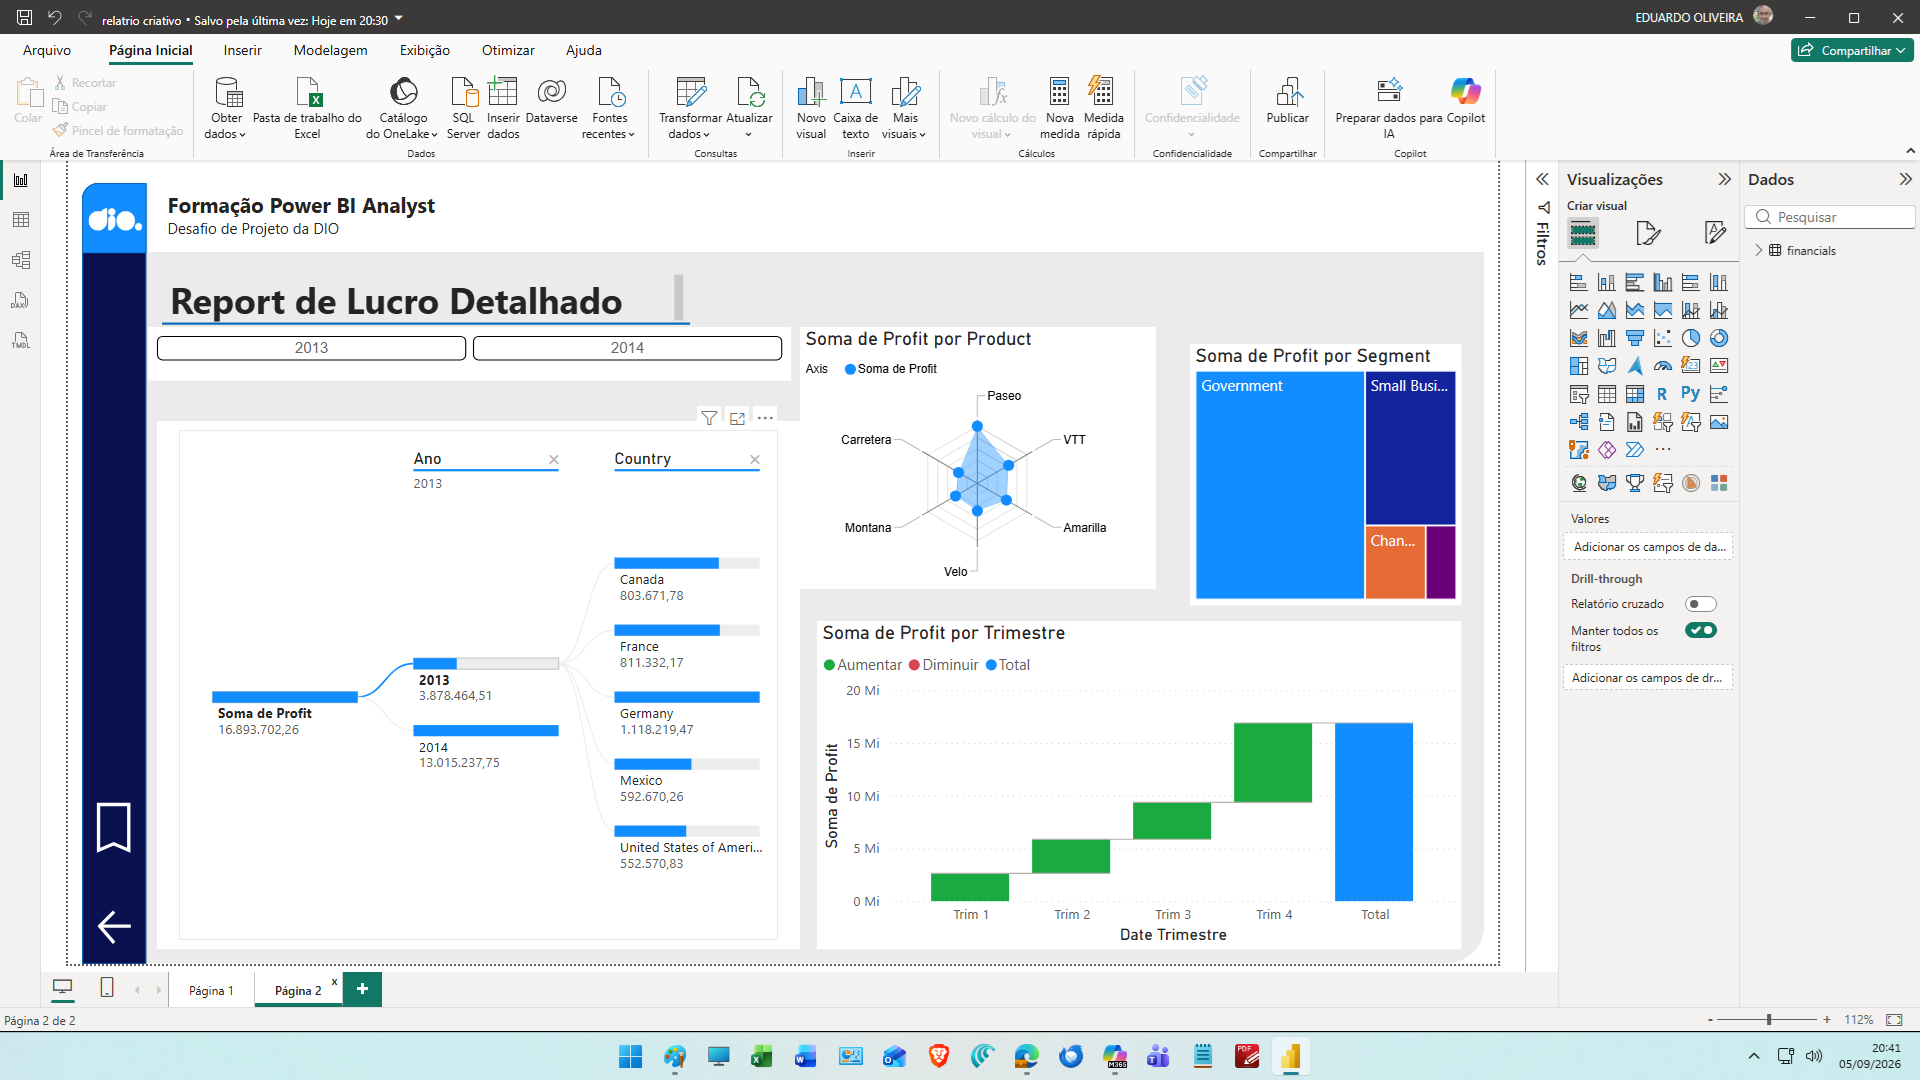

The dashboard page shown, as its layout file describes it:
{"tool":"powerbi","page":{"name":"Página 2","canvas":[1280,720],"ordinal":1},"visuals":[{"type":"shape","box":[42.6,20.7,1225.3,699.3],"z":0},{"type":"shape","box":[83.9,127.8,473,37.1],"z":0,"group":"g1"},{"type":"shape","box":[12.4,20.2,57.7,699.8],"z":1000},{"type":"textbox","box":[85.3,97.6,470.2,52.2],"z":1000,"group":"g1"},{"type":"shape","box":[12.4,20.6,57.7,63.2],"z":2000},{"type":"image","box":[13.7,33,57.7,39.9],"z":3000},{"type":"shape","title":"Fundo do Título","box":[71.5,20.6,1198.9,61.9],"z":4000},{"type":"textbox","title":"Título do report","box":[83.9,22,378.1,63.2],"z":5000},{"type":"shape","box":[79.7,233.7,576.1,473],"z":6000},{"type":"decompositionTreeVisual","fields":{"Analyze":["Sum(financials.Profit)"],"ExplainBy":["financials.Date.Variation.Hierarquia de datas.Ano","financials.Country"]},"box":[99.8,242.2,536.3,456.5],"z":7000},{"type":"waterfallChart","fields":{"Category":["financials.Date.Variation.Hierarquia de datas.Trimestre"],"Y":["Sum(financials.Profit)"]},"box":[670.9,412.5,577.4,294.2],"z":8000},{"type":"ChicletSlicer1448559807354","fields":{"Category":["financials.Date.Variation.Hierarquia de datas.Ano"]},"box":[71.6,149.6,576.1,48.1],"z":9000},{"type":"RadarChart1446119667547","fields":{"Category":["financials.Product"],"Y":["Sum(financials.Profit)"]},"box":[655.5,149.6,317.6,233.7],"z":10000},{"type":"treemap","fields":{"Group":["financials.Segment"],"Values":["Sum(financials.Profit)"]},"box":[1005,165,243.4,233.7],"z":11000},{"type":"actionButton","box":[22,666.8,48.1,39.9],"z":12000},{"type":"group","id":"g1","title":"Sales report","box":[83.9,97.6,473,67.4],"z":13000},{"type":"actionButton","box":[12.8,545.8,57,105.5],"z":14000}]}

Visuals, with their boxes on the page's 1280x720 design canvas (x1, y1, x2, y2). These are canvas units, not pixel positions in the 1920x1080 screenshot, which may show the page scaled, cropped or inside an application window:
shape: region(43, 21, 1268, 720)
shape: region(84, 128, 557, 165)
shape: region(12, 20, 70, 720)
textbox: region(85, 98, 556, 150)
shape: region(12, 21, 70, 84)
image: region(14, 33, 71, 73)
"Fundo do Título" shape: region(72, 21, 1270, 82)
"Título do report" textbox: region(84, 22, 462, 85)
shape: region(80, 234, 656, 707)
decompositionTreeVisual - Sum(financials.Profit) x financials.Date.Variation.Hierarquia de datas.Ano: region(100, 242, 636, 699)
waterfallChart - financials.Date.Variation.Hierarquia de datas.Trimestre x Sum(financials.Profit): region(671, 412, 1248, 707)
ChicletSlicer1448559807354 - financials.Date.Variation.Hierarquia de datas.Ano: region(72, 150, 648, 198)
RadarChart1446119667547 - financials.Product x Sum(financials.Profit): region(656, 150, 973, 383)
treemap - financials.Segment x Sum(financials.Profit): region(1005, 165, 1248, 399)
actionButton: region(22, 667, 70, 707)
"Sales report" group: region(84, 98, 557, 165)
actionButton: region(13, 546, 70, 651)
